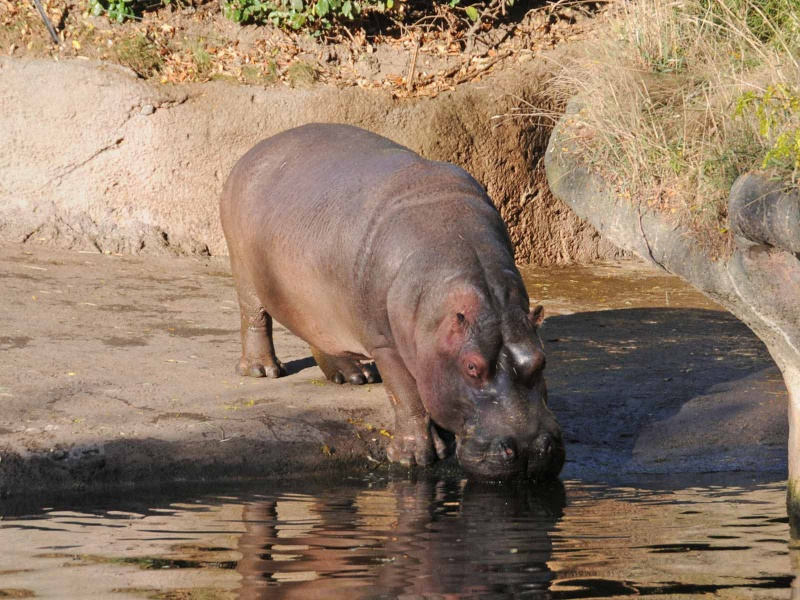hipopotamo: (214, 123, 568, 480)
